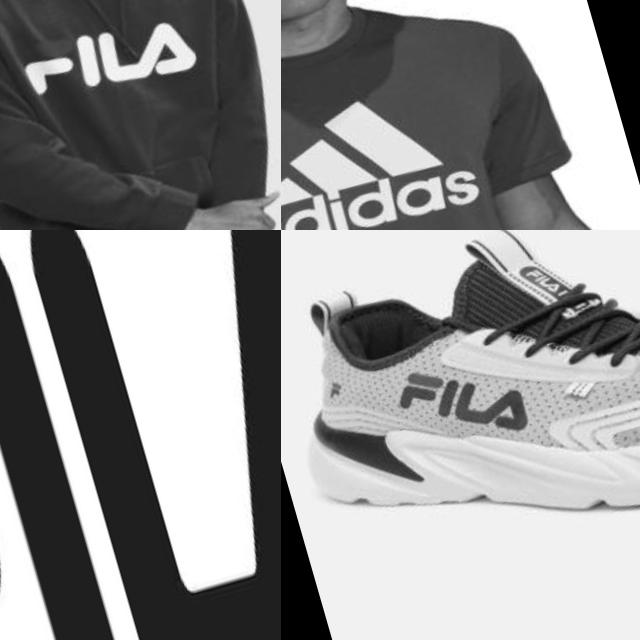ADIDAS_original: (281, 53, 503, 230)
FILA_original: (0, 230, 281, 640), (0, 0, 216, 138), (374, 334, 542, 476)
